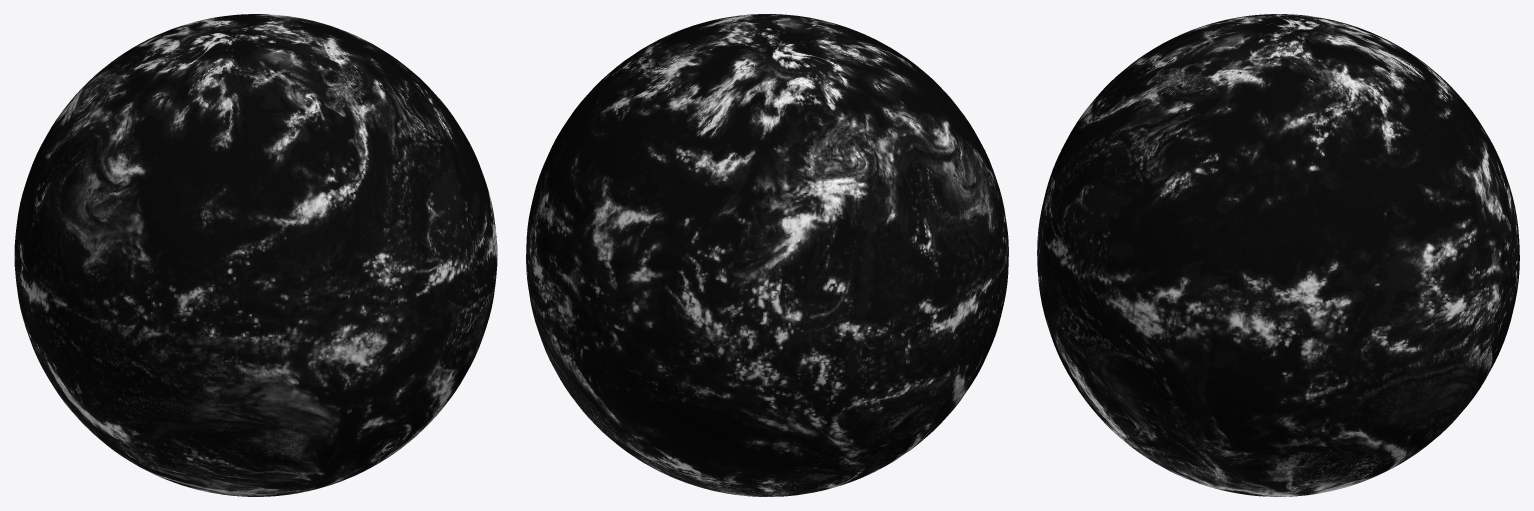
The model's file is blue_marble.gltf.
3 views of the same model, side by side, from view 1: azimuth 30°, elevation 25°; view 2: azimuth 150°, elevation 25°; view 3: azimuth 270°, elevation 25° (orthographic).
Parts seen in each view (by area): view 1: Sphere; view 2: Sphere; view 3: Sphere.
Part boxes in pixels (x1=…): Sphere: x1=14, y1=14, x2=497, y2=496; Sphere: x1=526, y1=14, x2=1008, y2=496; Sphere: x1=1037, y1=14, x2=1519, y2=496.
Size of the model in its own units: 4.21 by 4.21 by 4.21.
Materials: 1 (1 with a texture image).
